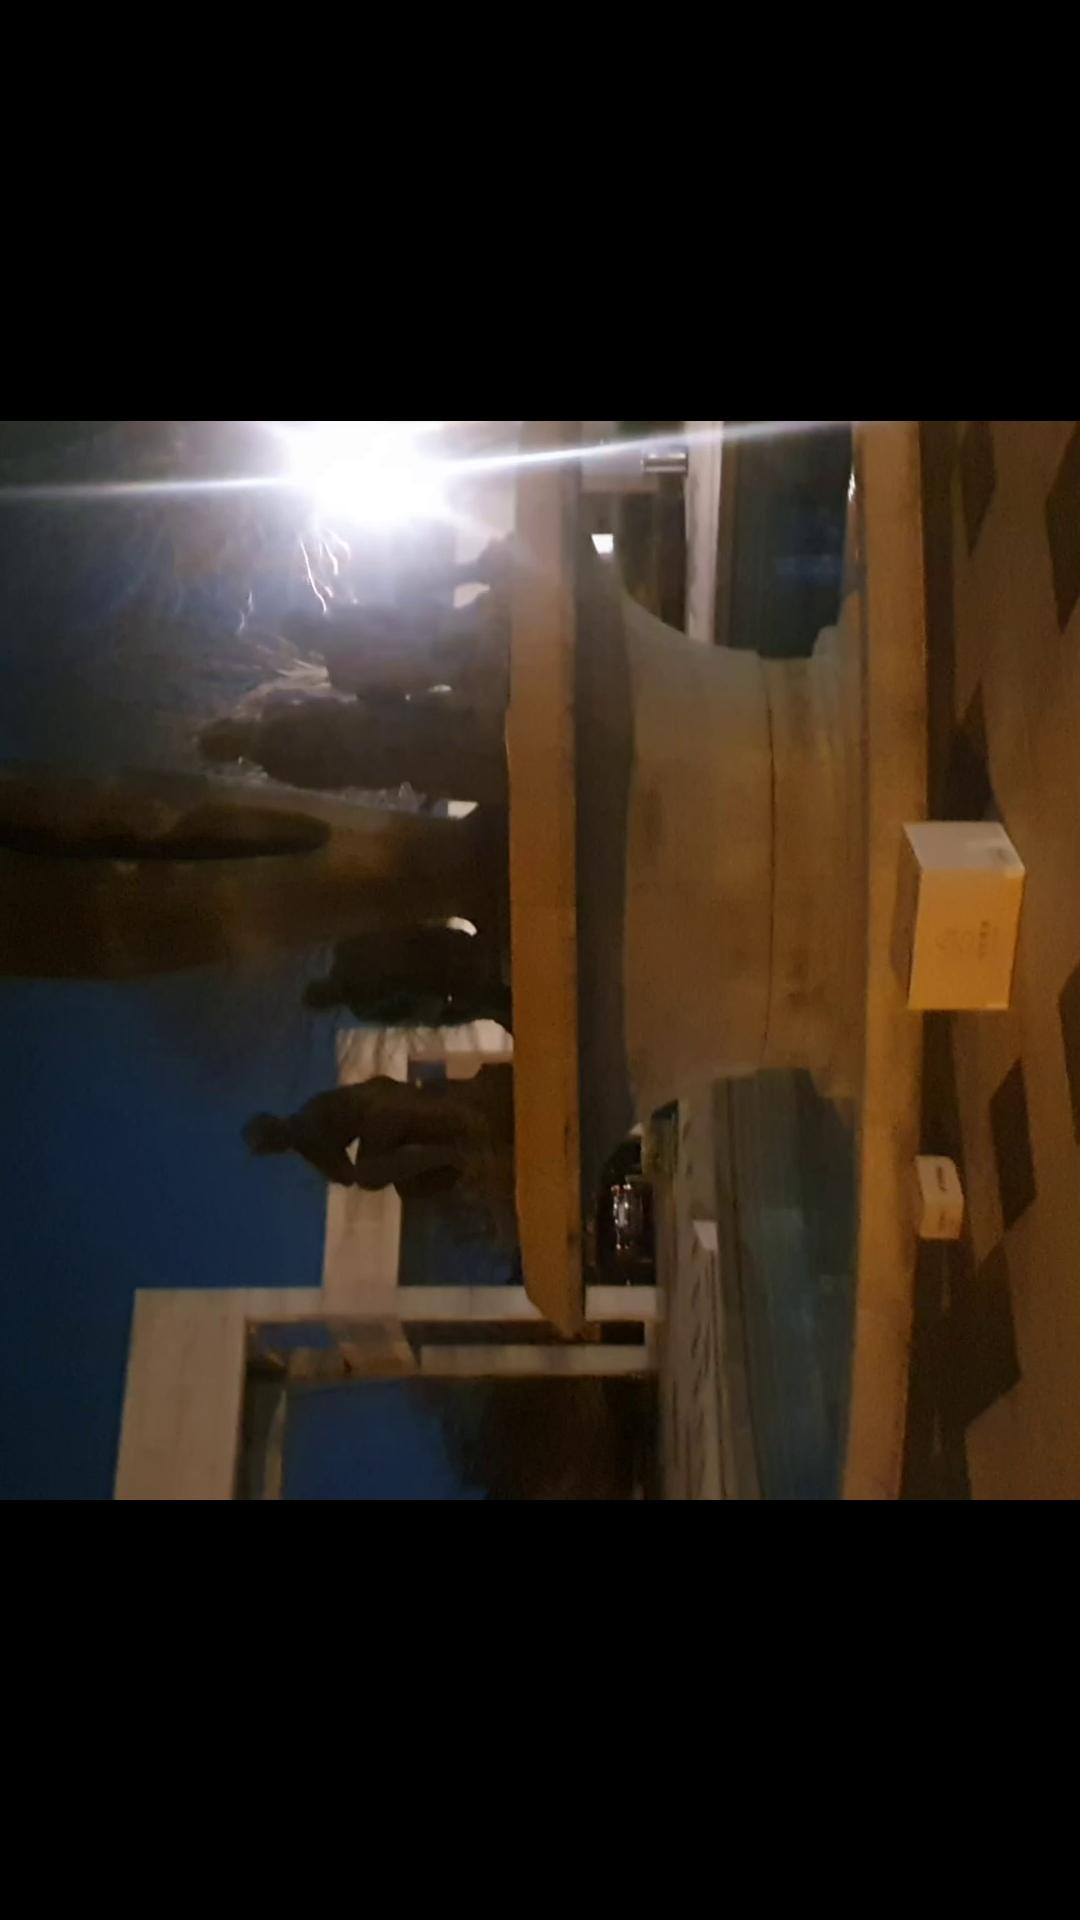Box: (876, 815, 1035, 1014), (890, 1150, 971, 1237)
